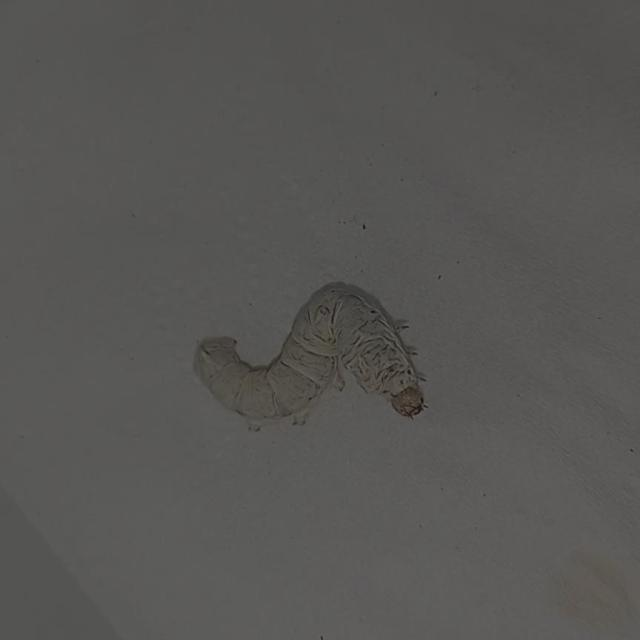Healthy: (183, 227, 487, 437)
